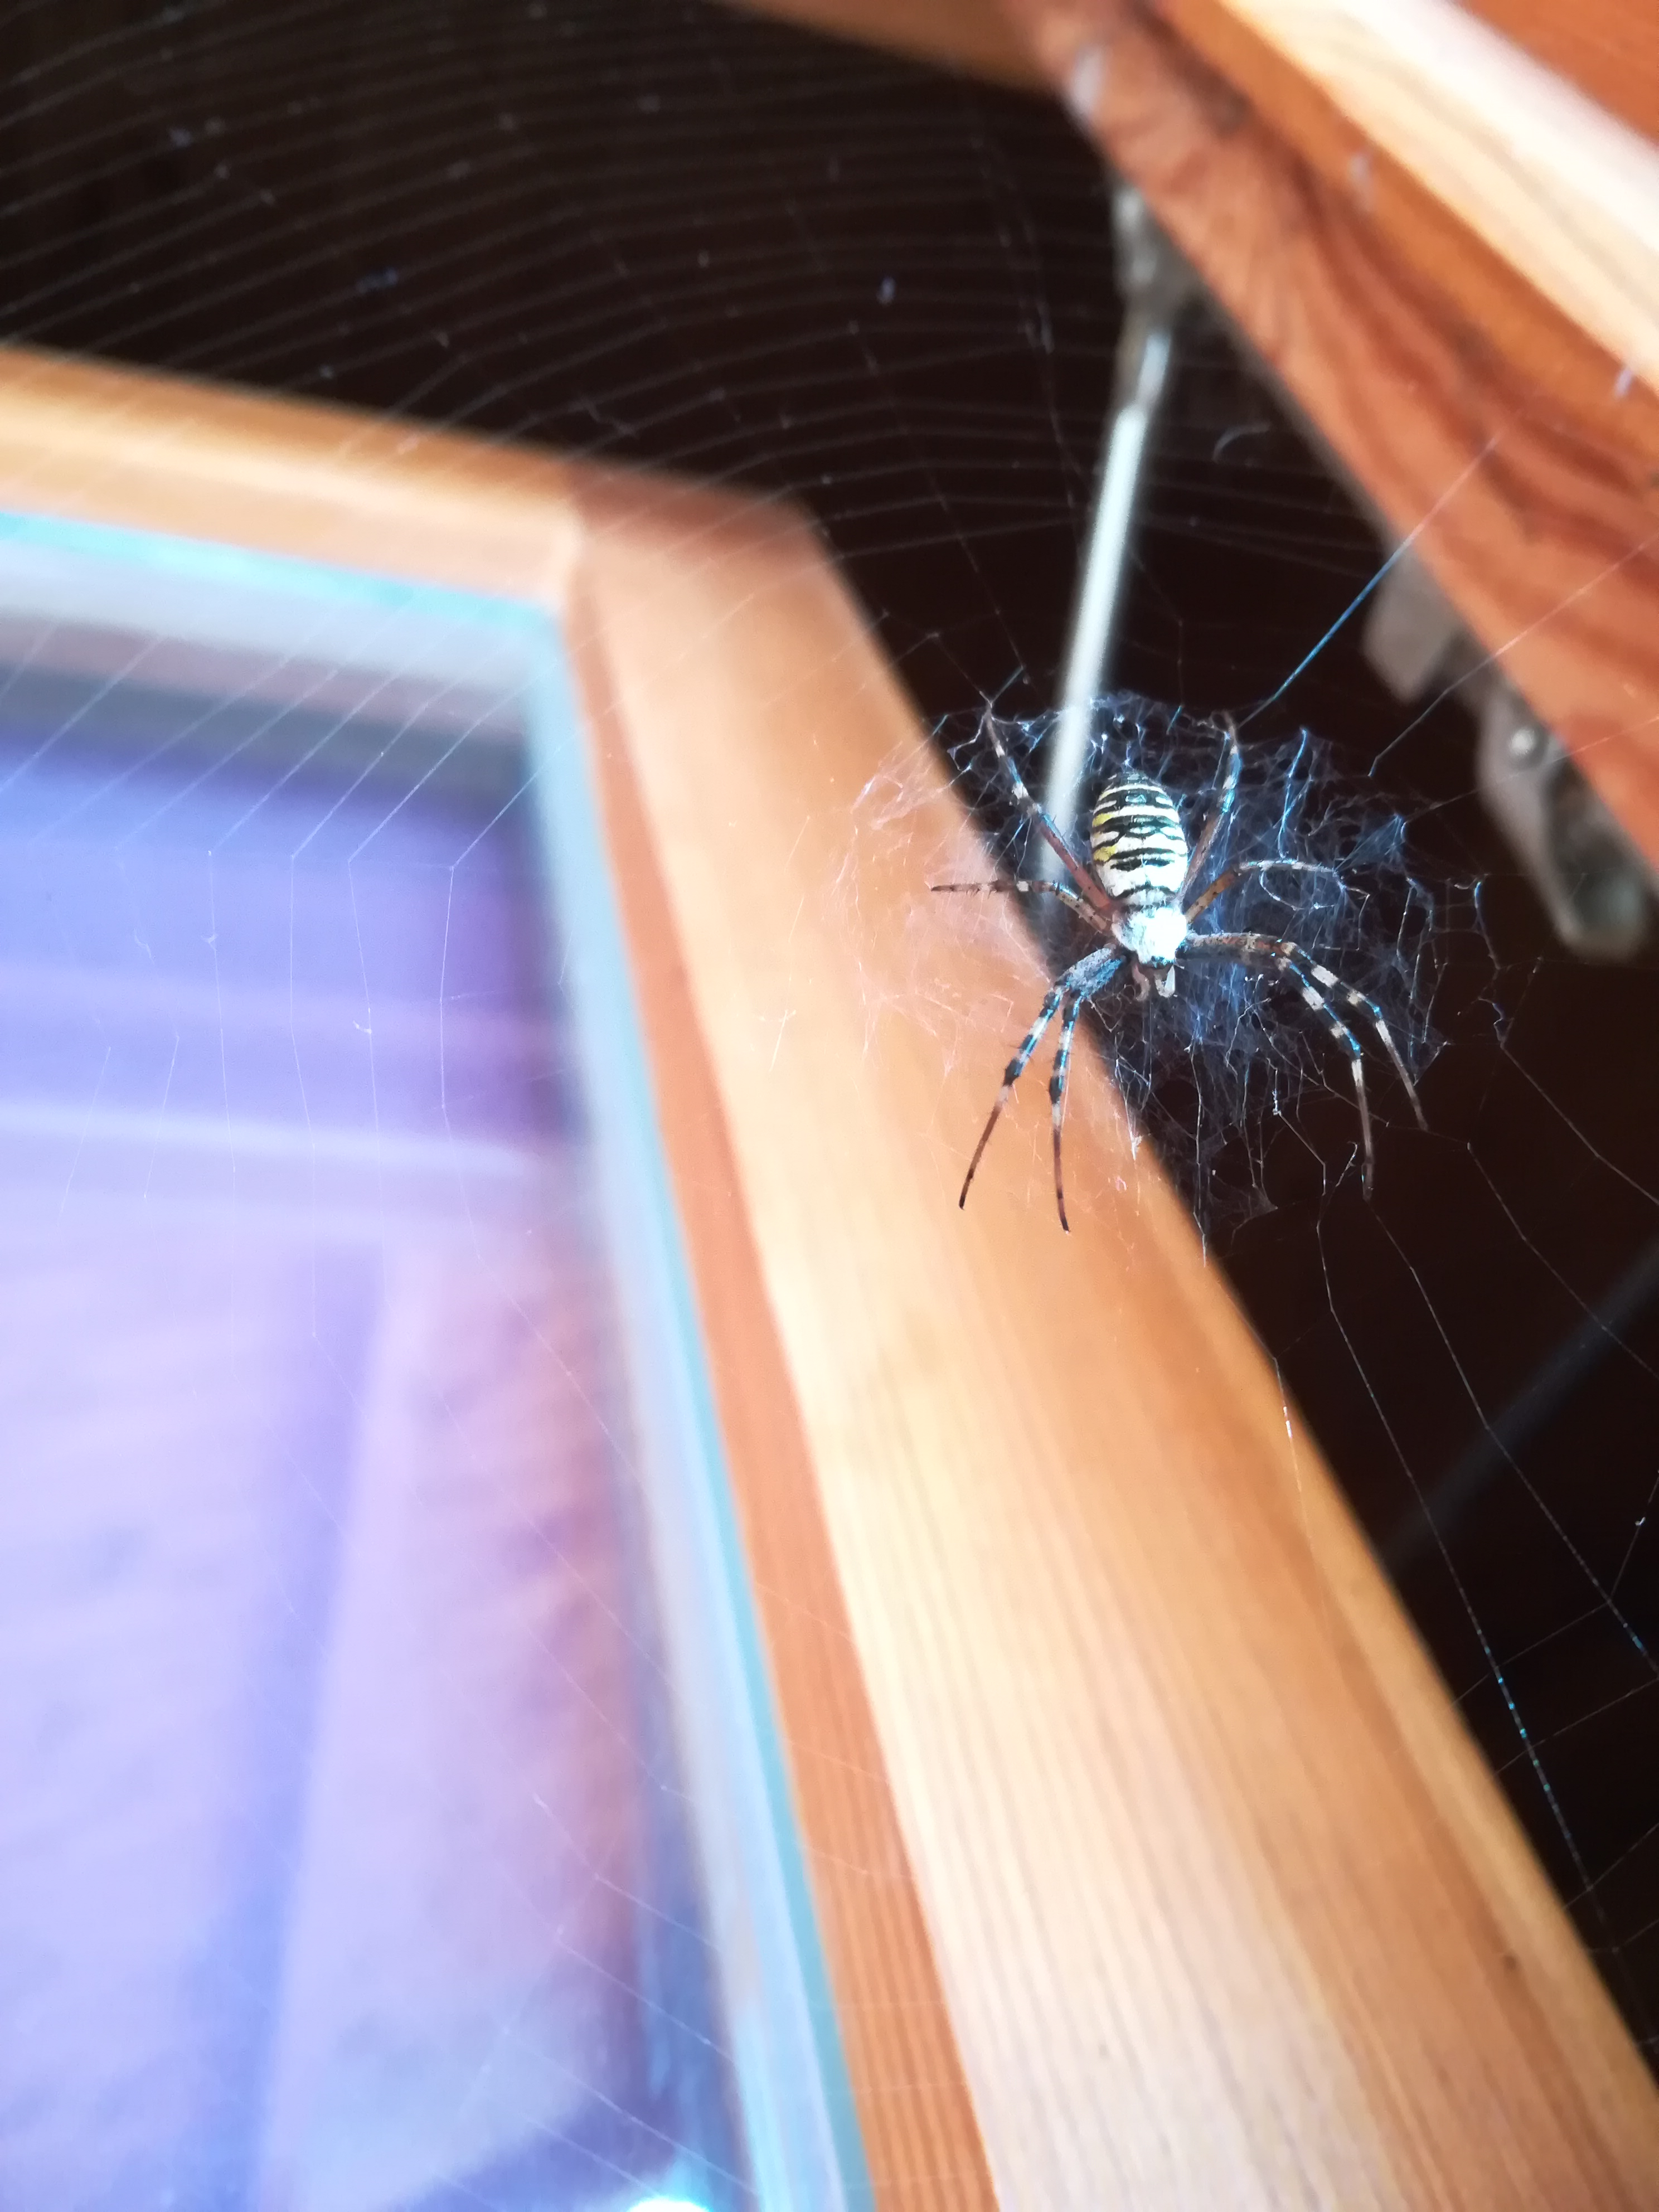spider: (861, 676, 1415, 1237)
